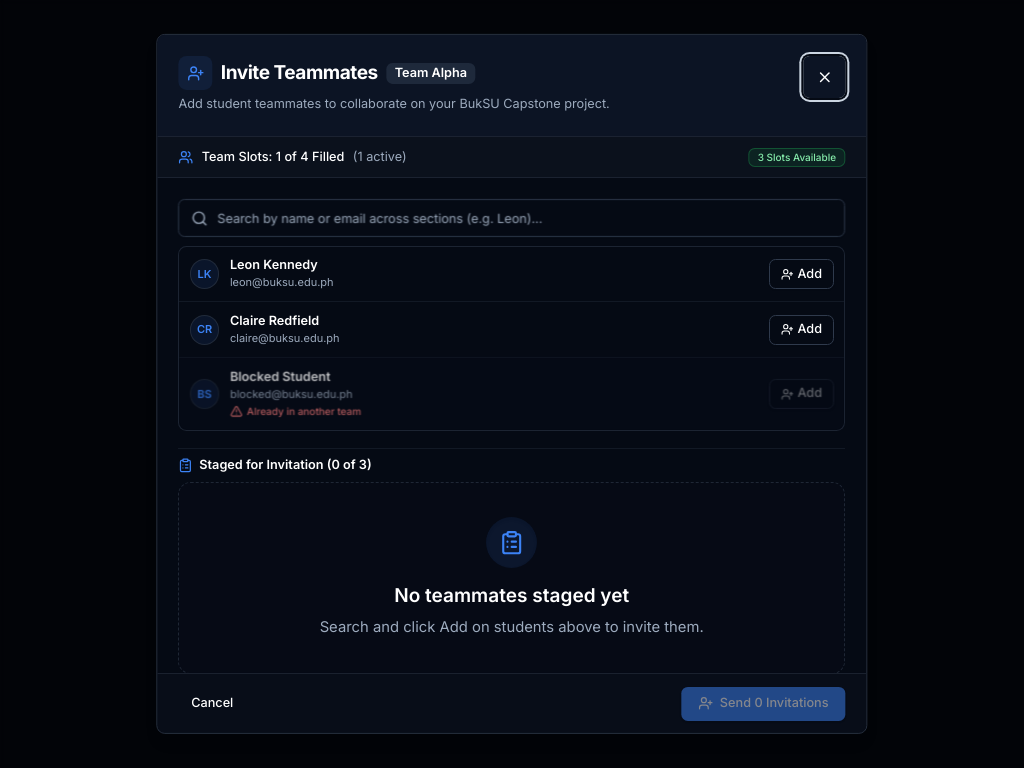
Test case: BulkInviteModal › stages candidates on click and sends bulk invites
Click the button "Add" in the row of "leon@buksu.edu.ph" at (802, 274), box [769,259,834,289]
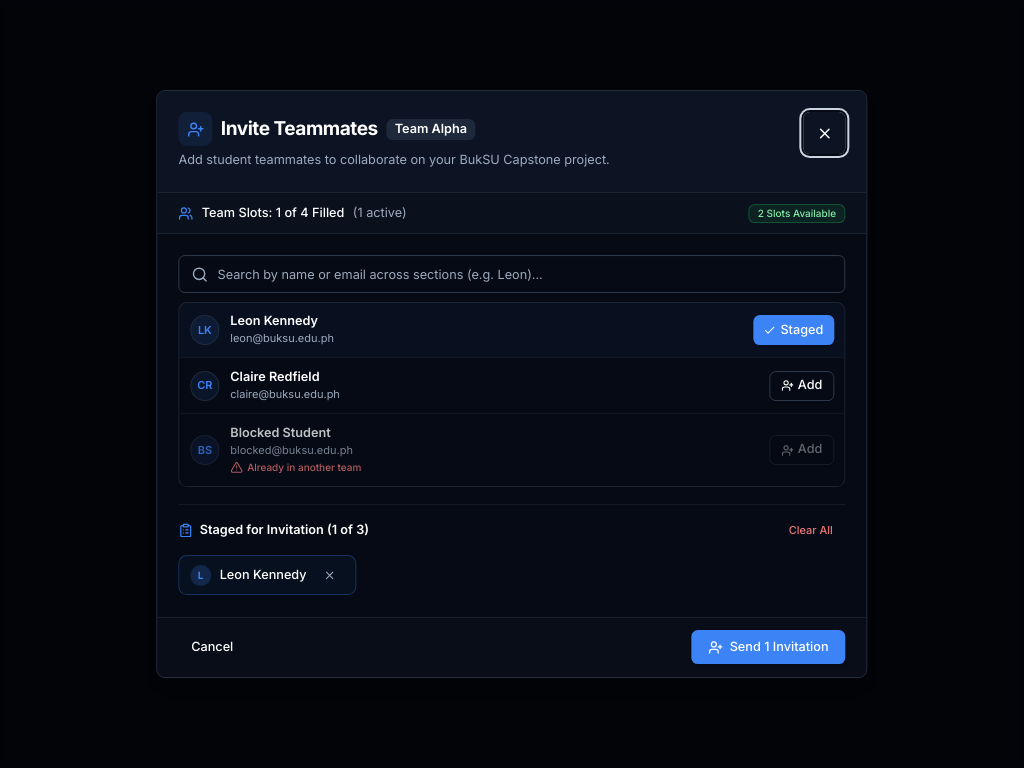
Check: the text "Staged for Invitation (1 of 3)" is shown, box [178,522,369,538]
Check: the text "Send 1 Invitation" is shown
Click the button "Send 1 Invitation" at (768, 647), box [692,630,846,664]
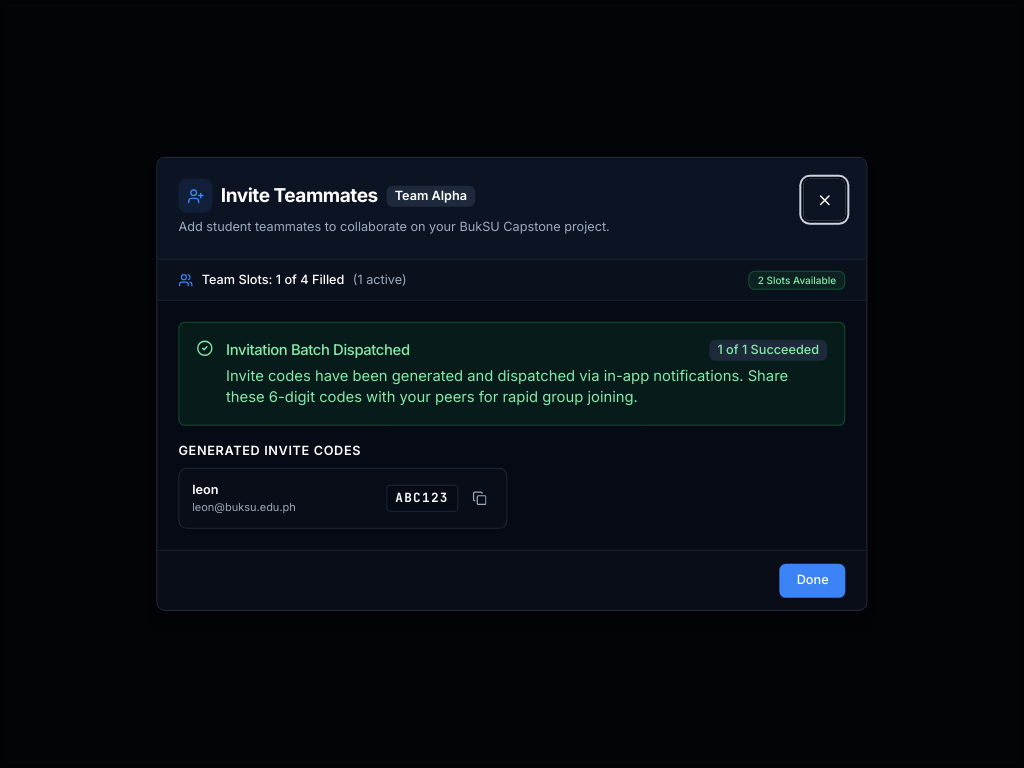
Check: the text "Invitation Batch Dispatched" is shown, box [226,340,410,361]
Check: the text "ABC123" is shown, box [386,485,458,512]
